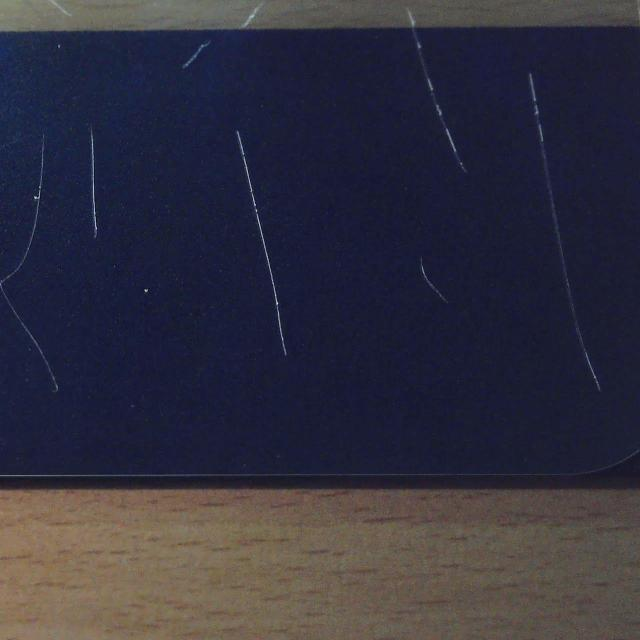defect: (528, 72, 602, 392), (0, 135, 58, 393), (234, 129, 291, 358), (403, 28, 472, 182), (79, 126, 103, 241), (412, 252, 454, 316), (182, 39, 213, 70)
